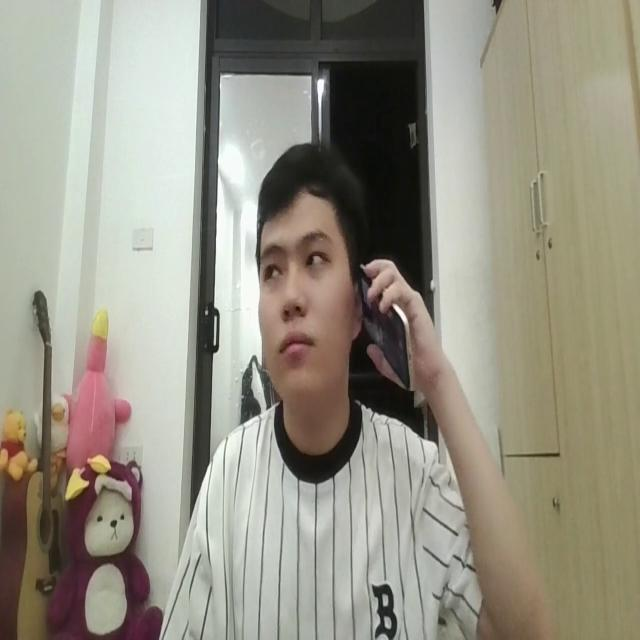phone: (353, 244, 418, 404)
student: (146, 134, 548, 638)
